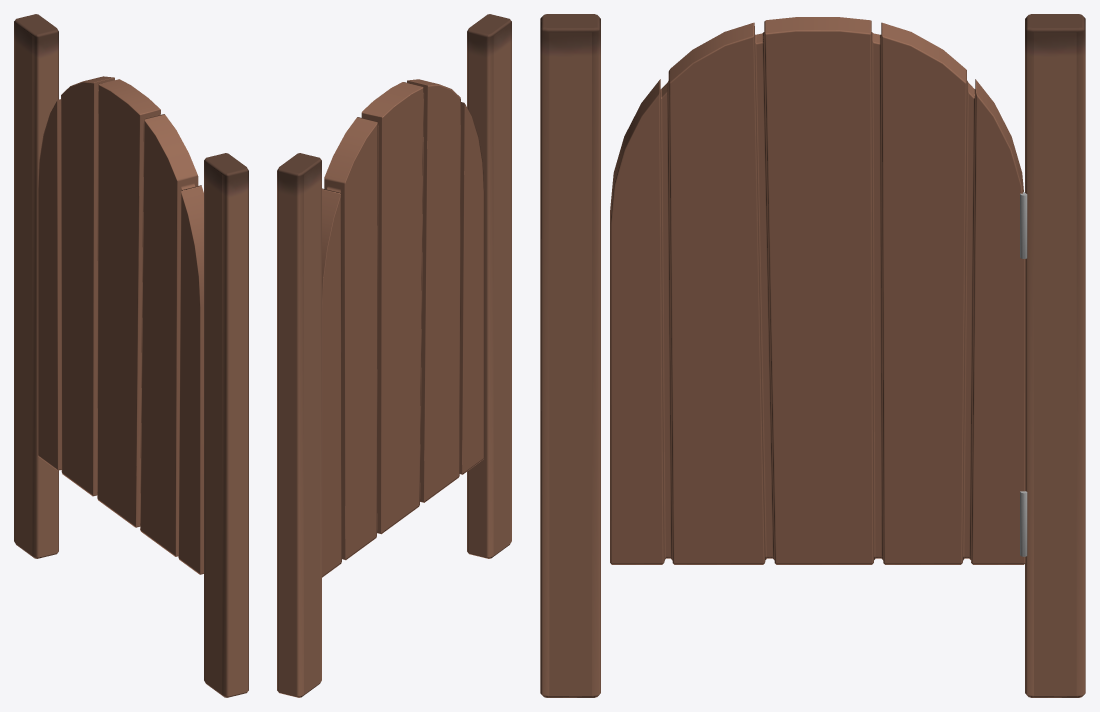
File: Fence_Gate_01.fbx
3 renders of one model, left to right at view 1: azimuth 30°, elevation 25°; view 2: azimuth 150°, elevation 25°; view 3: azimuth 270°, elevation 25°, orthographic. The views are drawn at different scales.
Parts seen in each view (by area): view 1: Fence_Gate_Door, Fence_Gate_Main_01; view 2: Fence_Gate_Door, Fence_Gate_Main_01; view 3: Fence_Gate_Door, Fence_Gate_Main_01.
Boxes of the visible parts, x1,y1,x2,y2 form: Fence_Gate_Door: [38, 76, 203, 574]; Fence_Gate_Main_01: [14, 14, 248, 697]; Fence_Gate_Door: [322, 79, 484, 577]; Fence_Gate_Main_01: [277, 14, 511, 697]; Fence_Gate_Door: [610, 17, 1025, 564]; Fence_Gate_Main_01: [540, 14, 1085, 697].
Size of the model in its own units: 8.03 by 156 by 115.
